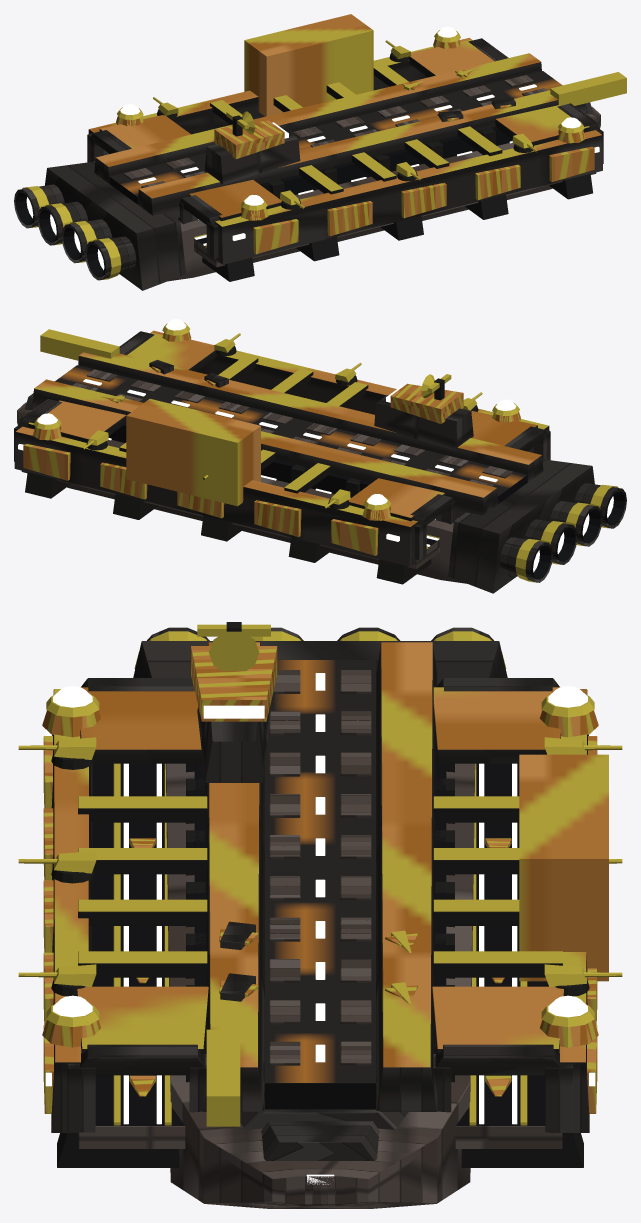
File: carrier.glb
The picture shows the model from 3 angles, top to bottom: view 1: azimuth 30°, elevation 25°; view 2: azimuth 150°, elevation 25°; view 3: azimuth 270°, elevation 25°; orthographic projection. The views are drawn at different scales.
Visible parts, largest first — view 1: hull_body, engine_block, sensor_island, shield_domes, weapon_turrets; view 2: hull_body, engine_block, sensor_island, shield_domes, weapon_turrets; view 3: hull_body, sensor_island, engine_block, shield_domes, weapon_turrets.
Part boxes in pixels (x1,y1,x2,y2): hull_body: [87, 14, 626, 281]; engine_block: [14, 161, 185, 290]; sensor_island: [204, 111, 300, 184]; shield_domes: [116, 26, 585, 220]; weapon_turrets: [153, 40, 538, 209]; hull_body: [14, 329, 550, 584]; engine_block: [448, 459, 626, 593]; sensor_island: [374, 374, 473, 450]; shield_domes: [32, 319, 520, 520]; weapon_turrets: [82, 333, 482, 509]; hull_body: [43, 642, 608, 1208]; sensor_island: [191, 622, 277, 782]; engine_block: [133, 627, 507, 684]; shield_domes: [42, 686, 598, 1047]; weapon_turrets: [18, 737, 622, 996].
Size of the model in its own units: 55 by 13.45 by 26.7.
1 material, 1 textured.
